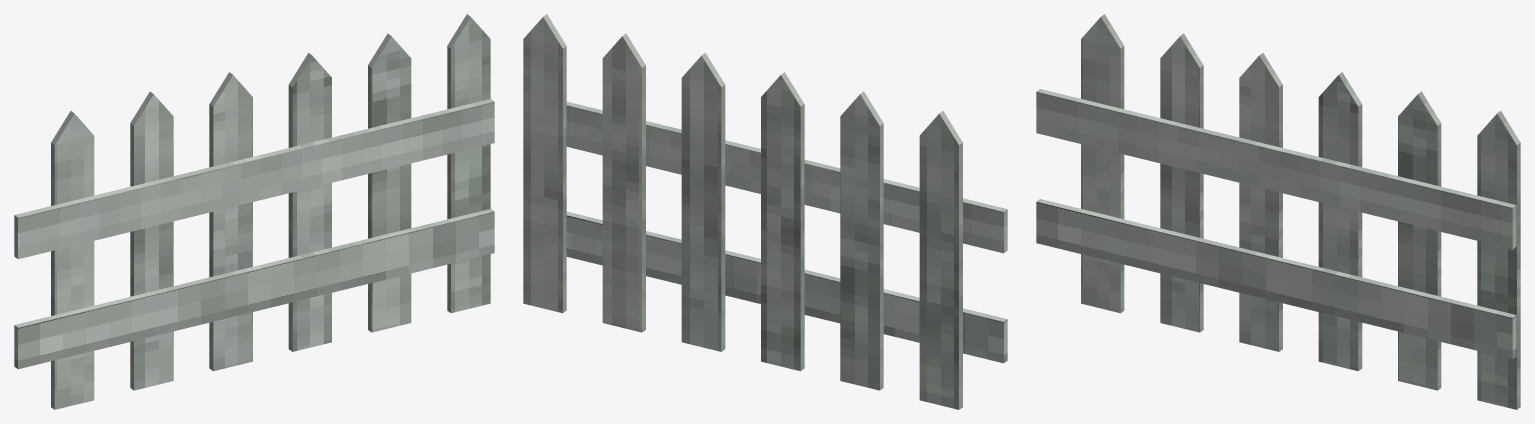
Rendered from white_picket_fence_open_right.glb.
3 renders of one model, left to right at view 1: azimuth 30°, elevation 25°; view 2: azimuth 150°, elevation 25°; view 3: azimuth 330°, elevation 25°, orthographic.
Parts seen in each view (by area): view 1: white_picket_fence_open_right; view 2: white_picket_fence_open_right; view 3: white_picket_fence_open_right.
Part boxes in pixels (x1=…): white_picket_fence_open_right: x1=14, y1=14, x2=494, y2=409; white_picket_fence_open_right: x1=523, y1=14, x2=1007, y2=409; white_picket_fence_open_right: x1=1036, y1=14, x2=1520, y2=409.
Size of the model in its own units: 2.16 by 1.27 by 0.0622.
Materials: 1 (1 with a texture image).
